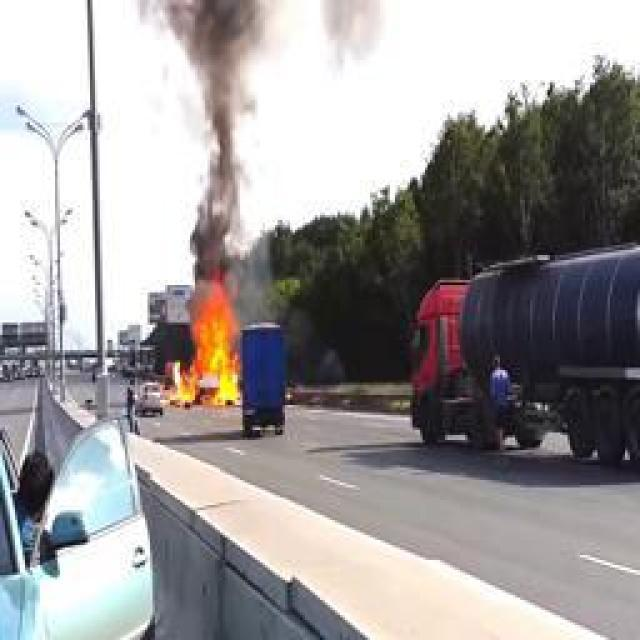Fire: (170, 276, 240, 406)
